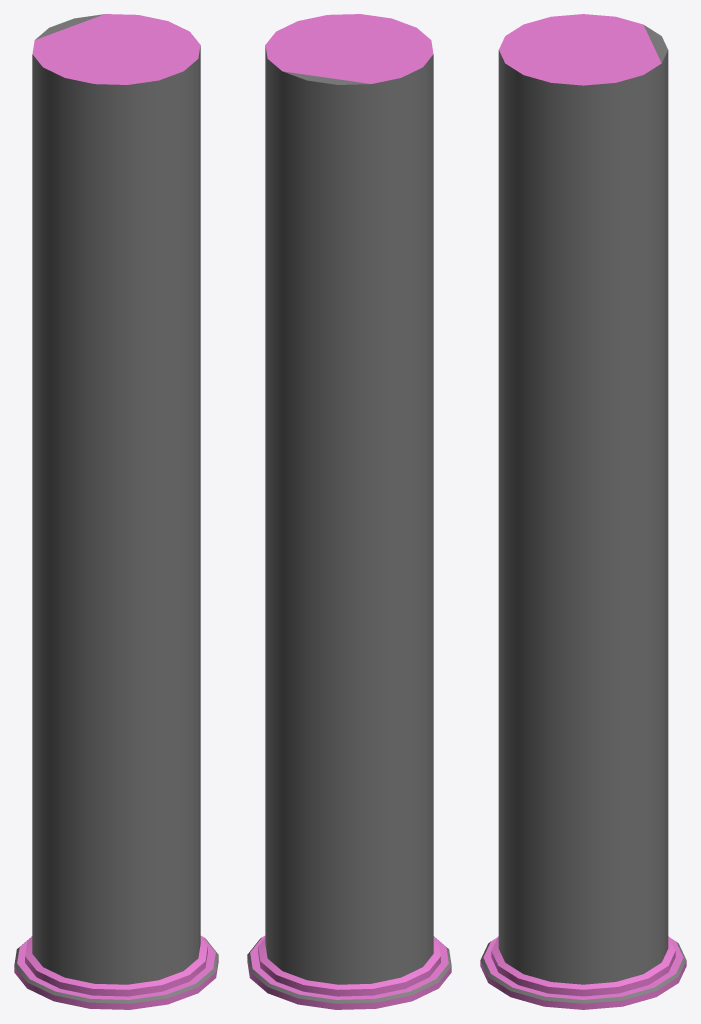
Rendered from Central_Pillar.fbx.
3 renders of one model, left to right at view 1: azimuth 30°, elevation 25°; view 2: azimuth 150°, elevation 25°; view 3: azimuth 270°, elevation 25°, orthographic.
Parts seen in each view (by area): view 1: Cylinder026; view 2: Cylinder026; view 3: Cylinder026.
Boxes of the visible parts, <box> form: Cylinder026: <box>14,14,218,1009</box>; Cylinder026: <box>247,14,451,1009</box>; Cylinder026: <box>480,14,686,1009</box>.
Size of the model in its own units: 0.4 by 1.96 by 0.4.
